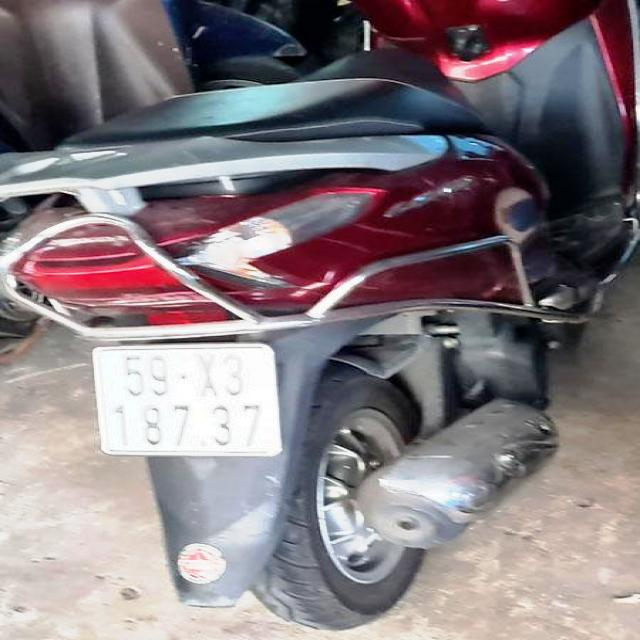license_plate: (94, 347, 276, 454)
